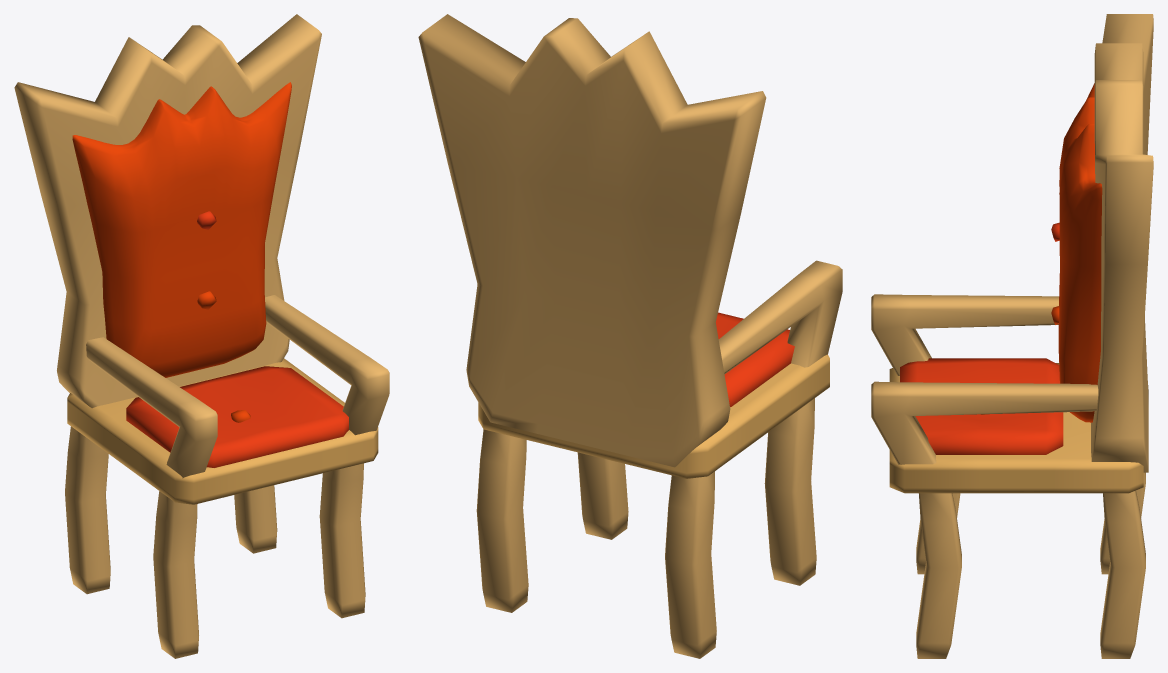
File: props_royalChair.fbx
3 views of the same model, side by side, from view 1: azimuth 30°, elevation 25°; view 2: azimuth 150°, elevation 25°; view 3: azimuth 270°, elevation 25° (orthographic). The views are drawn at different scales.
Parts seen in each view (by area): view 1: royalChair; view 2: royalChair; view 3: royalChair.
Part boxes in pixels (x1,y1,x2,y2): royalChair: (14,14,389,658); royalChair: (418,14,842,658); royalChair: (871,14,1153,658).
Bounding box in the file's own units: 1.36 × 1.12 × 2.4.
